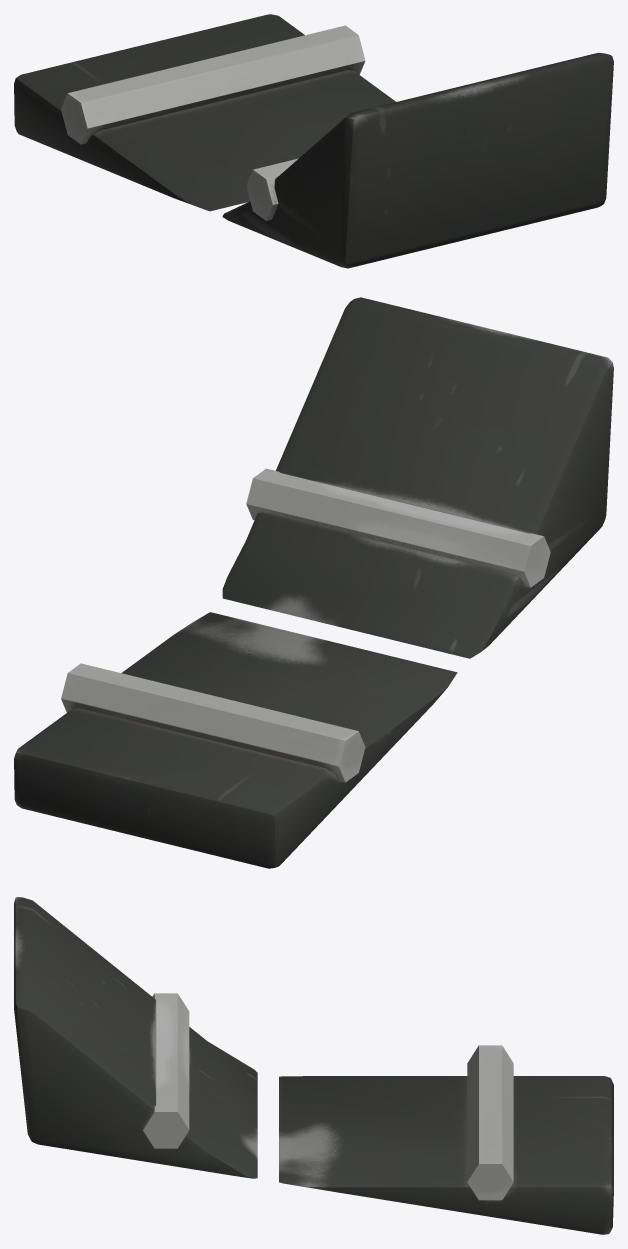
Rendered from adaptador_punho_762.glb.
3 renders of one model, top to bottom at view 1: azimuth 30°, elevation 25°; view 2: azimuth 150°, elevation 25°; view 3: azimuth 270°, elevation 25°, orthographic. The views are drawn at different scales.
Parts seen in each view (by area): view 1: adaptador_punho_762_adaptador; view 2: adaptador_punho_762_adaptador; view 3: adaptador_punho_762_adaptador.
Part boxes in pixels (x1,y1,x2,y2): adaptador_punho_762_adaptador: [14, 14, 613, 268]; adaptador_punho_762_adaptador: [14, 297, 613, 868]; adaptador_punho_762_adaptador: [14, 897, 613, 1234].
Bounding box in the file's own units: 0.029 × 0.0264 × 0.0619.
Materials: 1 (1 with a texture image).
